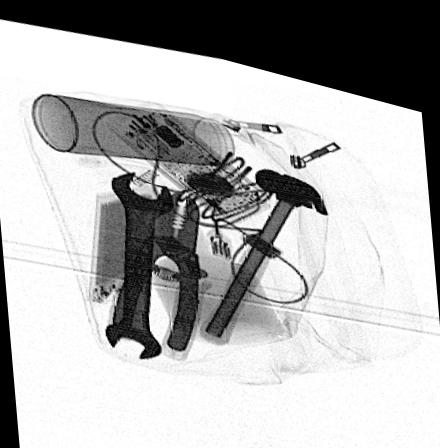Hammer: (199, 153, 326, 333)
Pliers: (107, 181, 208, 352)
Powerbank: (88, 173, 156, 299)
Wrench: (103, 163, 174, 352)
